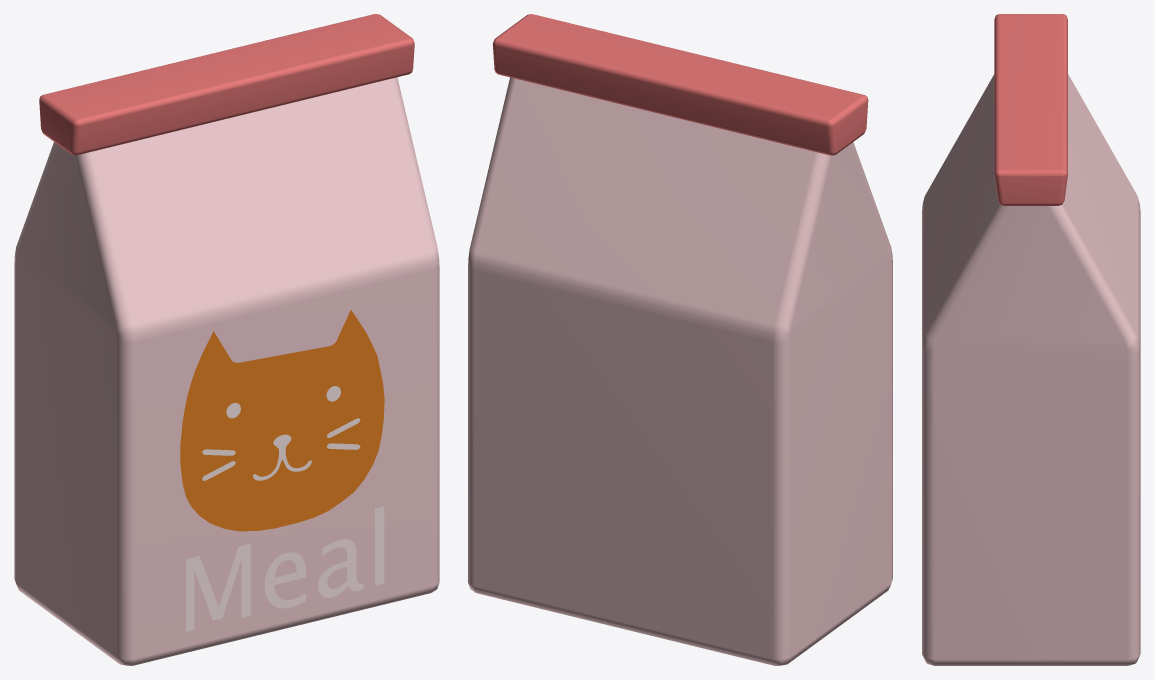
The model's file is Isl_1_Cat_Meal_1.fbx.
3 views of the same model, side by side, from view 1: azimuth 30°, elevation 25°; view 2: azimuth 150°, elevation 25°; view 3: azimuth 270°, elevation 25° (orthographic). The views are drawn at different scales.
Visible parts, largest first — view 1: Isl_1_Cat_Meal_1; view 2: Isl_1_Cat_Meal_1; view 3: Isl_1_Cat_Meal_1.
Part boxes in pixels (x1,y1,x2,y2): Isl_1_Cat_Meal_1: (14,14,439,665); Isl_1_Cat_Meal_1: (468,14,892,665); Isl_1_Cat_Meal_1: (922,14,1140,665).
Bounding box in the file's own units: 156 × 230 × 90.46.
